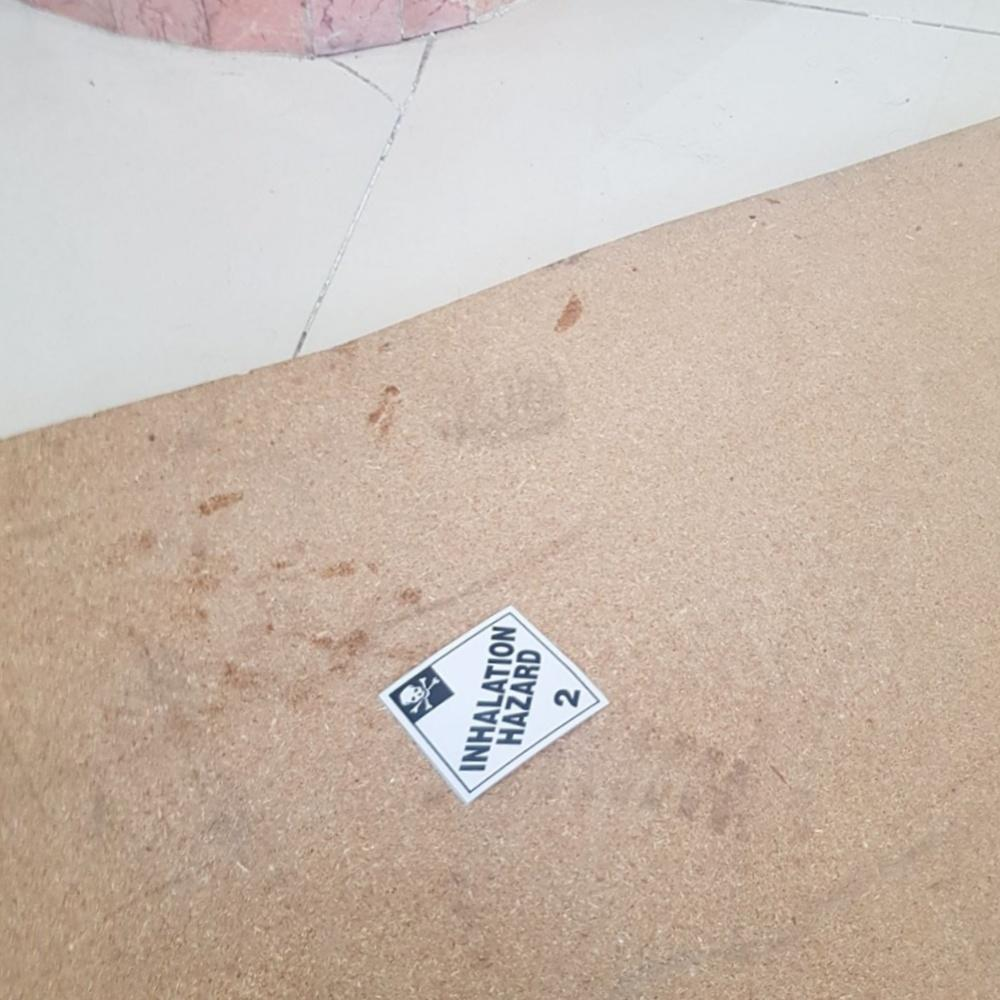poison: (385, 601, 610, 809)
